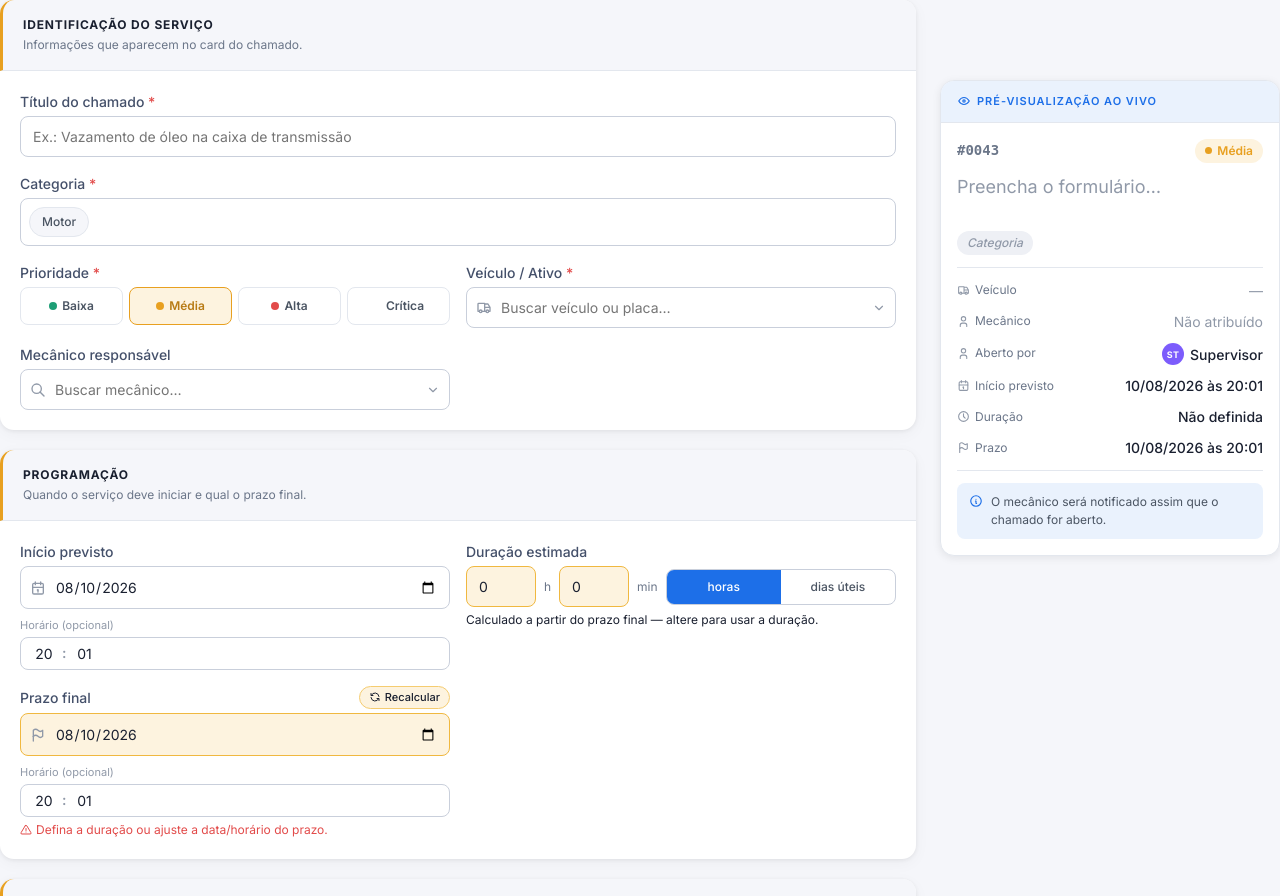
Test: NovoChamadoForm — interações › digitar título atualiza o preview
Type "Revisão de motor" into the field with test id "input-titulo" at (458, 136), box [20,116,896,157]
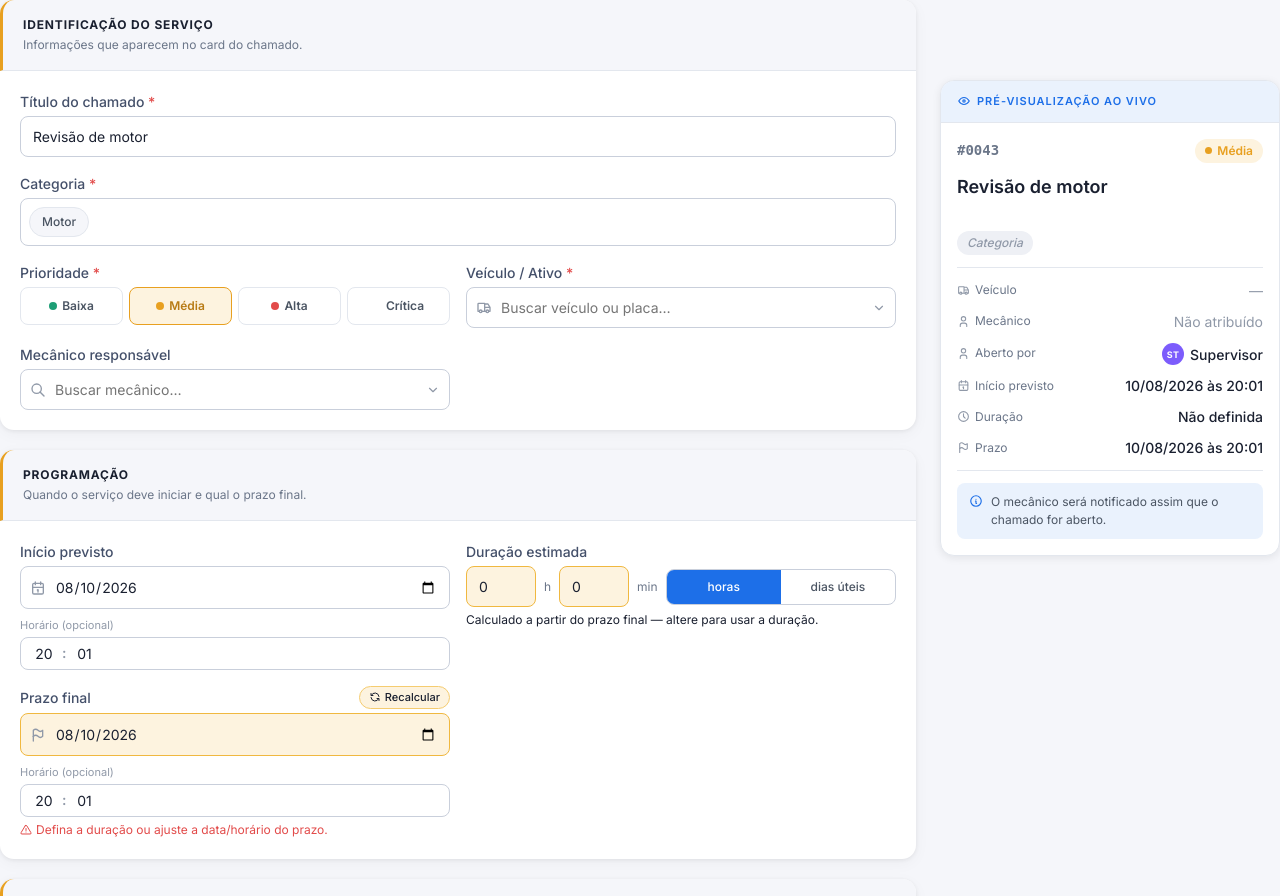
Expected: the heading "Revisão de motor" is shown, [957,176,1108,196]
